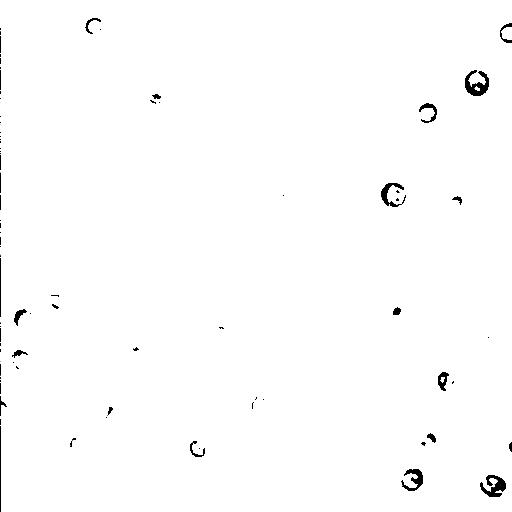micro-algae: (0, 255, 58, 315), (95, 32, 143, 79), (301, 13, 344, 58), (383, 17, 418, 57), (467, 324, 503, 361), (108, 407, 142, 441), (379, 293, 409, 329), (169, 171, 199, 201), (270, 183, 299, 214), (380, 180, 409, 209), (478, 472, 508, 500), (250, 390, 279, 417), (463, 69, 489, 99), (399, 467, 425, 493), (76, 46, 103, 71), (73, 274, 99, 299), (123, 337, 148, 363), (9, 347, 31, 375), (65, 436, 87, 464), (87, 398, 110, 423), (417, 101, 439, 125), (12, 307, 33, 332), (435, 371, 457, 391), (188, 439, 206, 459), (47, 294, 69, 309), (85, 17, 103, 35), (420, 432, 437, 449), (499, 21, 512, 43), (1, 397, 12, 423), (447, 196, 463, 209), (502, 294, 511, 315)
